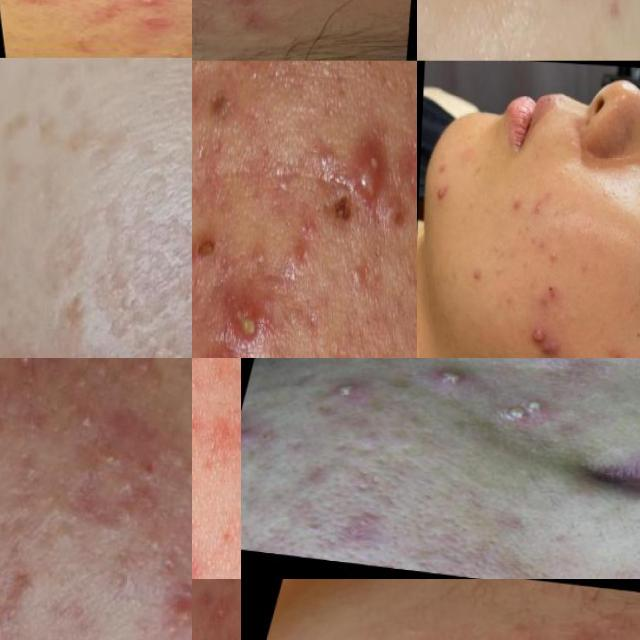acne_scars: (593, 0, 638, 30)
comedone: (77, 358, 135, 401), (64, 398, 108, 445), (577, 600, 628, 638), (20, 444, 55, 491), (109, 466, 143, 502), (0, 358, 39, 378), (212, 596, 233, 622), (131, 0, 167, 11)
flat_wart: (67, 159, 192, 320)
papule: (241, 409, 271, 458), (168, 569, 192, 629), (460, 266, 488, 304), (500, 192, 525, 230), (536, 283, 562, 309)
pustule: (484, 392, 562, 436), (419, 360, 476, 393), (325, 374, 372, 408), (426, 182, 446, 214), (527, 197, 547, 227), (538, 252, 561, 274), (528, 358, 572, 364)
sebo-crystan-conglo: (213, 287, 276, 355), (351, 134, 388, 224), (518, 324, 543, 344), (536, 344, 564, 358)
